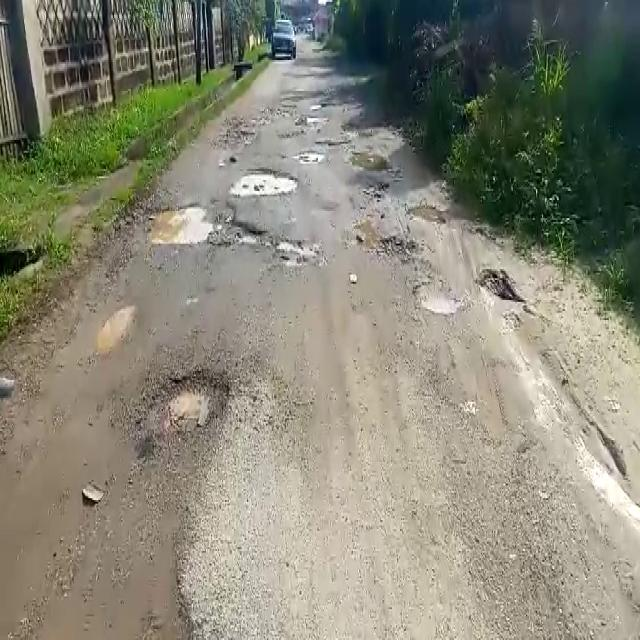Pothole: (136, 366, 232, 454), (147, 206, 264, 244), (229, 164, 300, 197), (412, 279, 461, 315), (274, 235, 324, 266), (298, 148, 328, 162)
